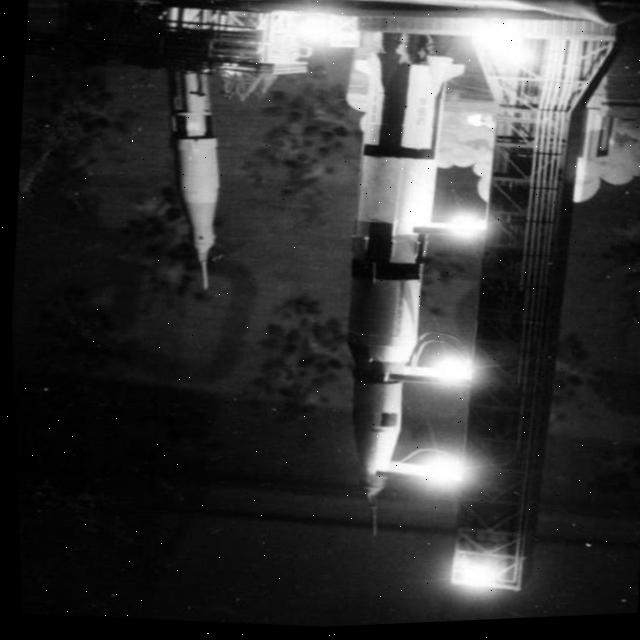missile: (309, 32, 480, 516)
